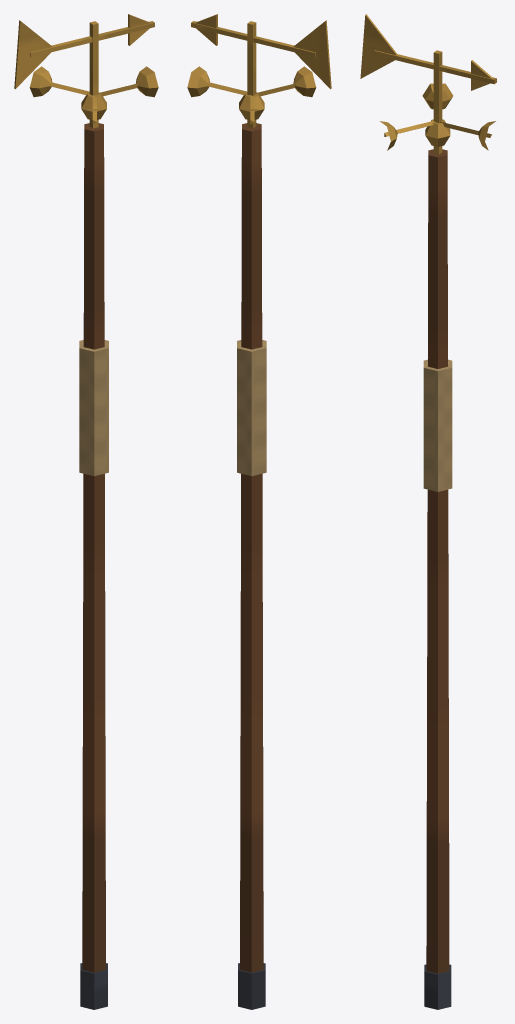
Rendered from SM_Prop_WeatherStaff_HQ.glb.
The picture shows the model from 3 angles, left to right: view 1: azimuth 30°, elevation 25°; view 2: azimuth 150°, elevation 25°; view 3: azimuth 330°, elevation 25°; orthographic projection. The views are drawn at different scales.
Visible parts, largest first — view 1: SM_Prop_WeatherStaff_HQ; view 2: SM_Prop_WeatherStaff_HQ; view 3: SM_Prop_WeatherStaff_HQ.
Boxes of the visible parts, x1,y1,x2,y2 form: SM_Prop_WeatherStaff_HQ: (14, 14, 158, 1009); SM_Prop_WeatherStaff_HQ: (187, 14, 331, 1009); SM_Prop_WeatherStaff_HQ: (360, 14, 496, 1009).
Bounding box in the file's own units: 0.28 × 1.93 × 0.2255.
1 material, 1 textured.
